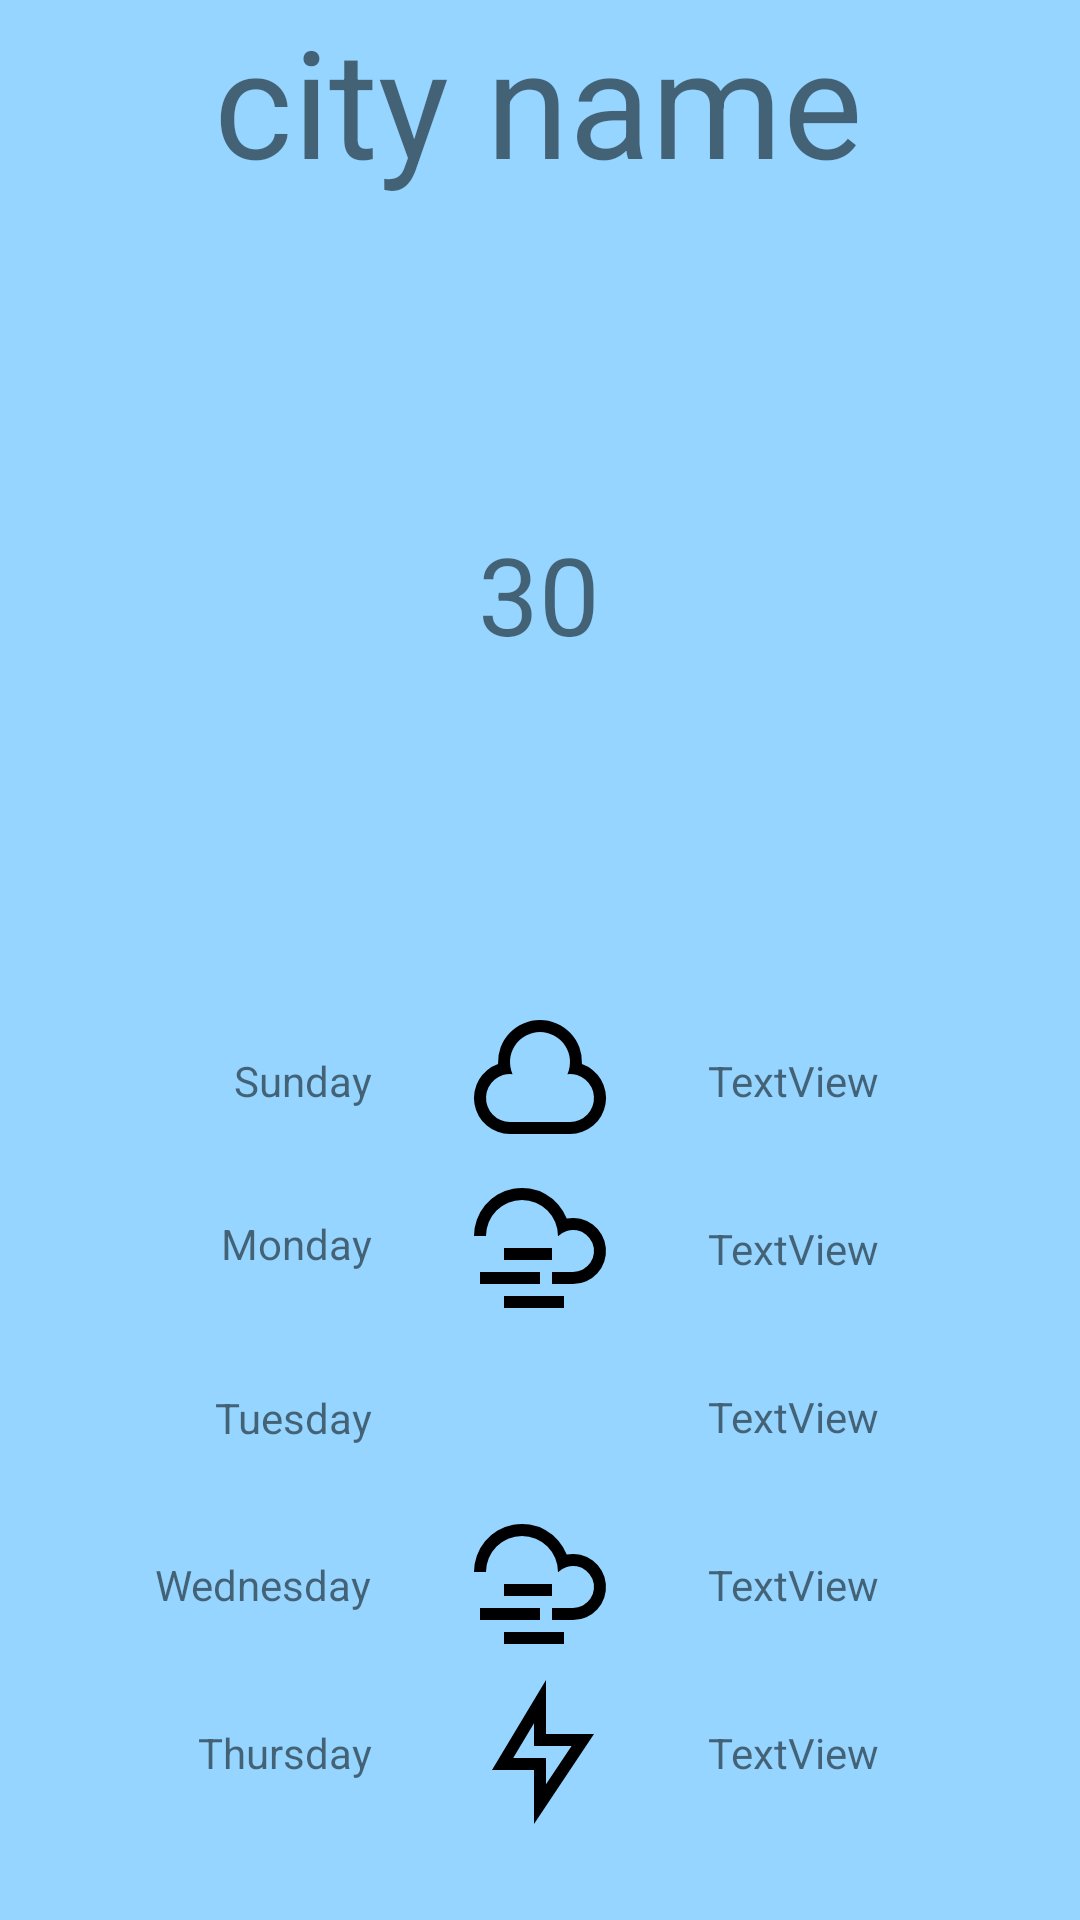

Icon click points for this 1080*1920 phone screenshot, format (x,y):
cloud windy line: (540,1248), (540,1584)
cloudy line: (540,1077)
flashlight line: (543,1752)
